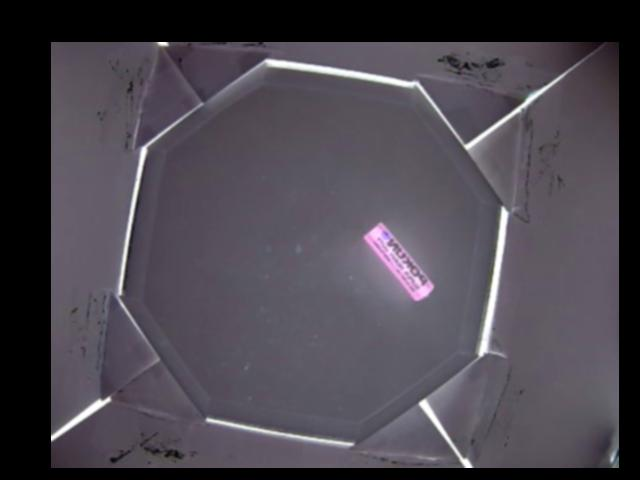Battery: (363, 222, 434, 302)
